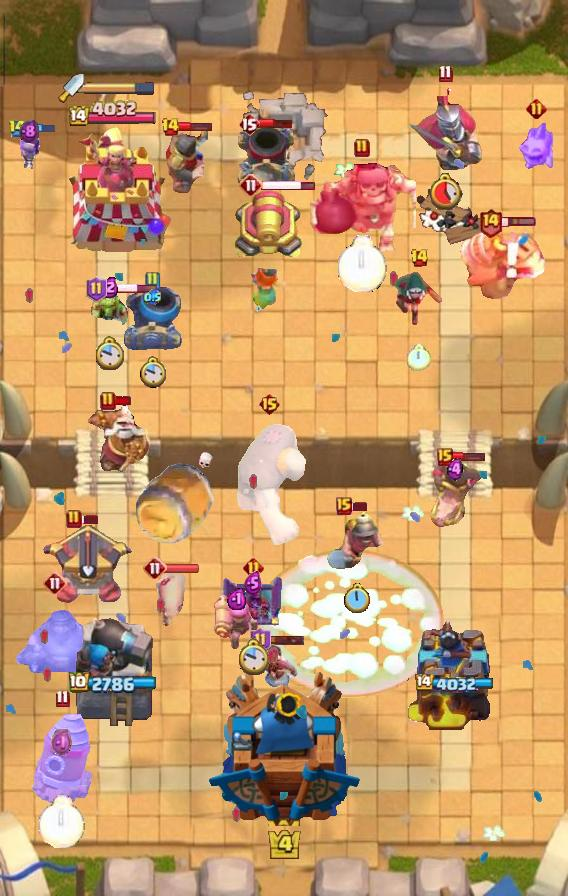balloon: (231, 408, 307, 548)
bandit: (324, 506, 388, 570)
bar: (55, 126, 173, 256)
dirt: (133, 460, 219, 548)
electro-giant: (309, 158, 415, 251)
electro-spirit: (51, 728, 74, 756), (19, 119, 39, 144), (226, 587, 246, 610), (100, 276, 120, 298), (244, 571, 262, 595), (447, 459, 463, 482), (144, 289, 161, 306)
elixir: (337, 236, 387, 293), (39, 796, 85, 849), (427, 172, 463, 210), (237, 638, 269, 678), (94, 336, 124, 372), (139, 356, 166, 389), (343, 583, 370, 615), (407, 345, 431, 372)
elixir-collector: (81, 402, 153, 474)
emote: (260, 179, 315, 192), (104, 283, 158, 294), (500, 216, 537, 228), (267, 634, 304, 646), (178, 120, 213, 132), (258, 119, 294, 130), (164, 563, 200, 574), (451, 451, 486, 462), (24, 122, 56, 133), (114, 395, 134, 407), (349, 500, 369, 511), (80, 514, 100, 525)
firecracker: (165, 125, 208, 194)
freeze: (427, 458, 483, 528)
giant: (156, 572, 190, 630)
goblin: (15, 133, 45, 169)
hog-rider: (245, 263, 283, 315)
ice-spirit-evolution-symbol: (221, 574, 285, 628)
king-tower: (207, 669, 361, 826)
king-tower-bar: (84, 81, 156, 95)
lava-pup: (43, 523, 135, 605)
magic-archer: (32, 711, 92, 805)
mirror: (516, 120, 556, 172)
musketeer: (234, 123, 298, 189), (122, 286, 182, 350)
night-witch: (459, 224, 551, 302)
phoenix-big: (255, 550, 445, 699)
queen-tower: (405, 617, 501, 731)
royal-guardian: (11, 598, 99, 680)
royal-recruit: (233, 189, 305, 263)
selected: (69, 99, 159, 128), (69, 672, 159, 696), (413, 674, 493, 694)
skeleton-dragon: (248, 637, 300, 695)
tesla: (394, 270, 444, 328)
text: (477, 207, 502, 238), (239, 173, 263, 197), (143, 556, 167, 580), (43, 571, 67, 595), (258, 392, 281, 416), (85, 276, 106, 302), (249, 627, 270, 653), (238, 112, 260, 136), (525, 98, 547, 119), (243, 558, 264, 579), (161, 117, 180, 137), (411, 248, 430, 268), (8, 119, 28, 137), (354, 138, 370, 158), (144, 271, 160, 291), (100, 391, 116, 411), (66, 509, 82, 529), (437, 448, 453, 466), (336, 497, 352, 515), (438, 64, 453, 83), (55, 689, 69, 707)
tombstone: (213, 593, 259, 651)
tower-bar: (71, 611, 157, 731)
wall-breaker-evolution: (406, 82, 484, 170)
zap: (90, 288, 128, 332)
